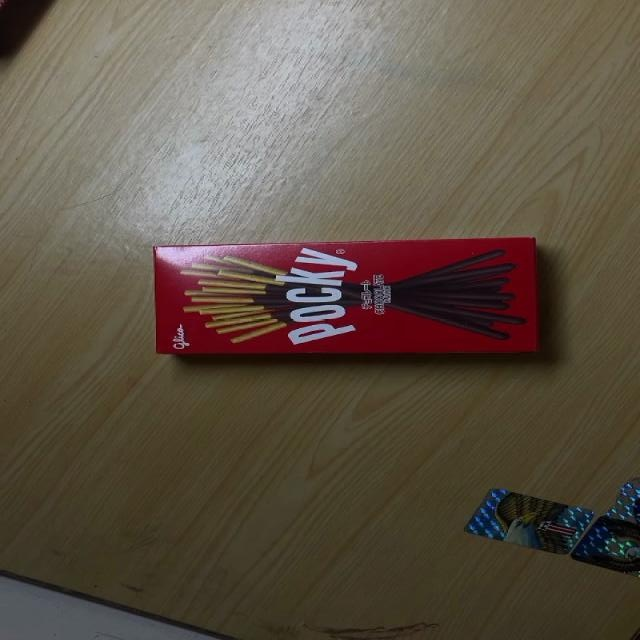Pocky: (153, 235, 541, 355)
